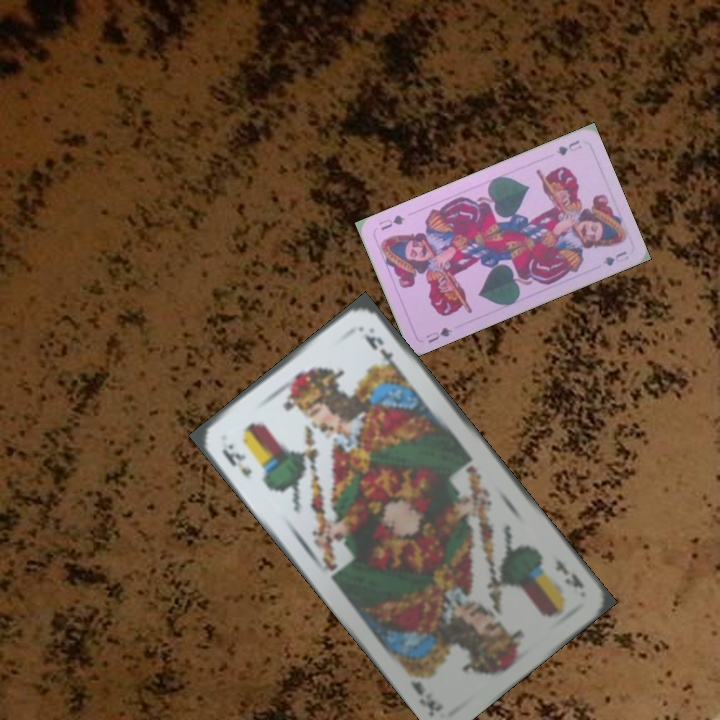EK: (218, 439, 255, 479), (551, 555, 587, 591)
GU: (422, 323, 454, 346), (552, 136, 584, 158)
